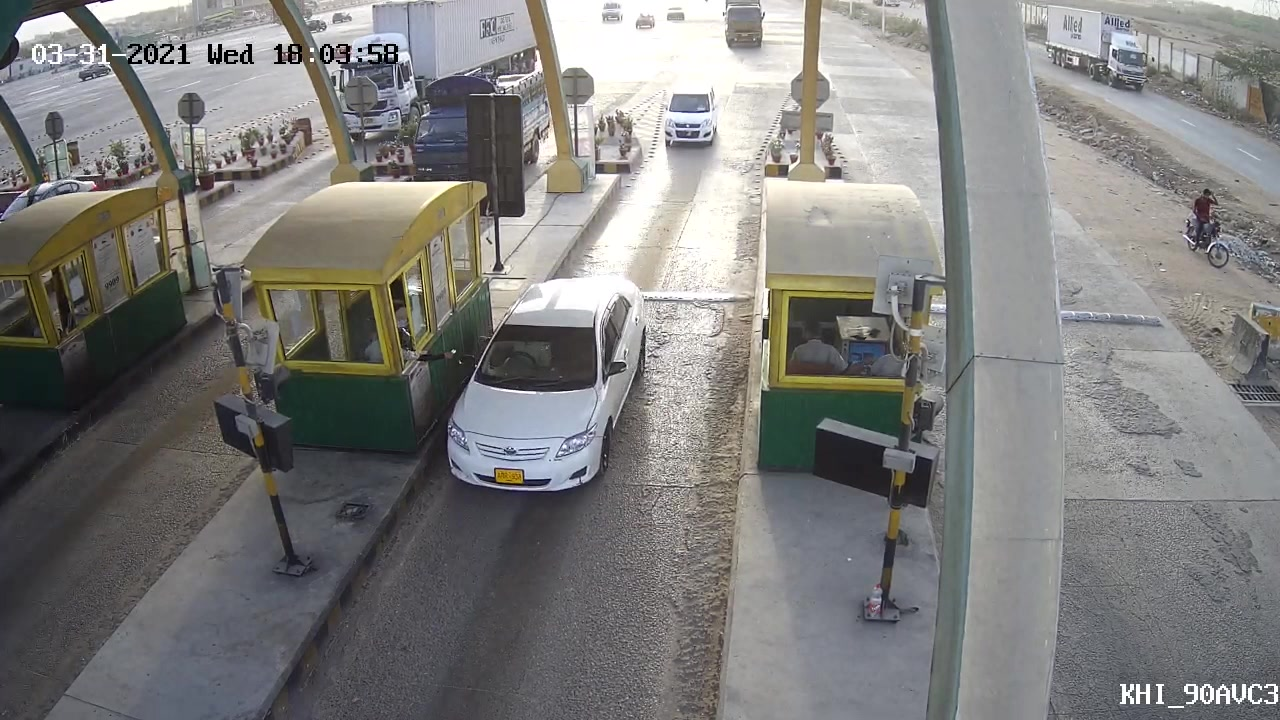F1: (439, 265, 662, 505)
